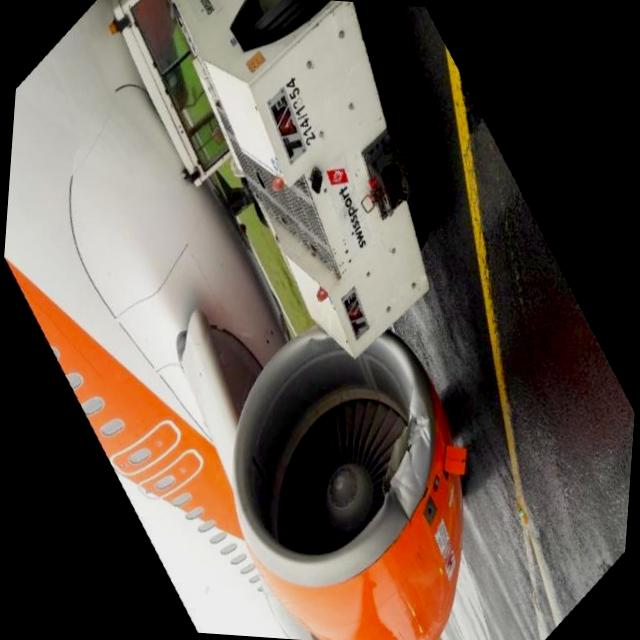crack: (381, 410, 425, 493)
dent: (296, 322, 338, 356), (380, 484, 412, 520), (412, 416, 428, 441)
